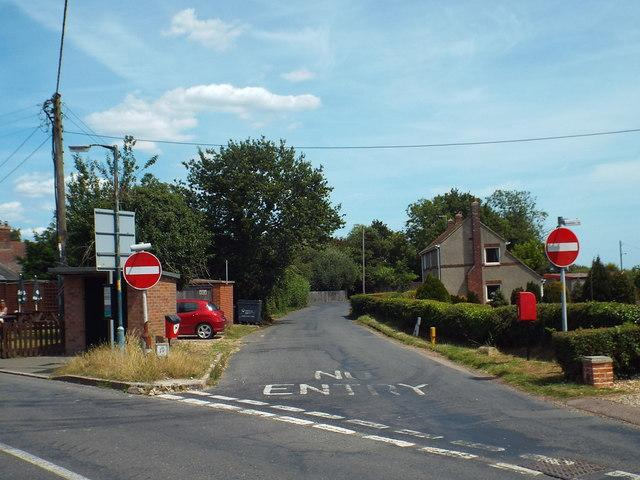B2: (121, 249, 162, 291), (545, 226, 579, 270)
